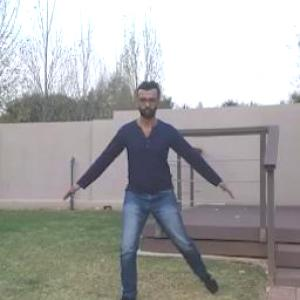land: (80, 82, 216, 299)
